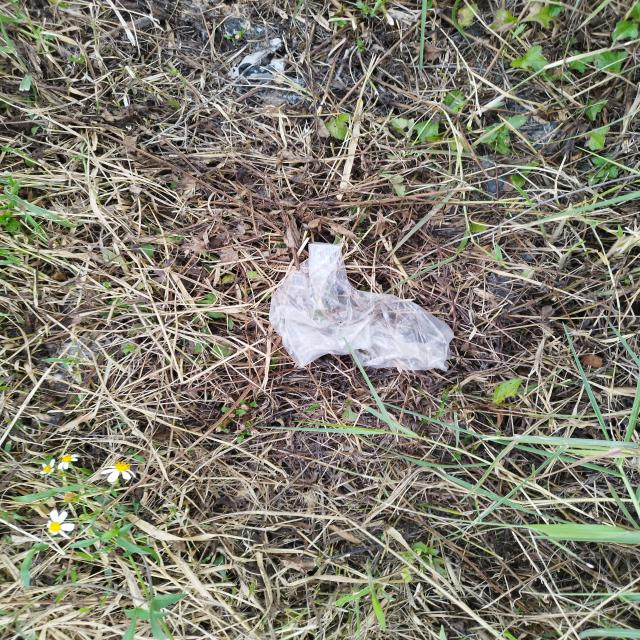bag: (271, 242, 454, 372)
